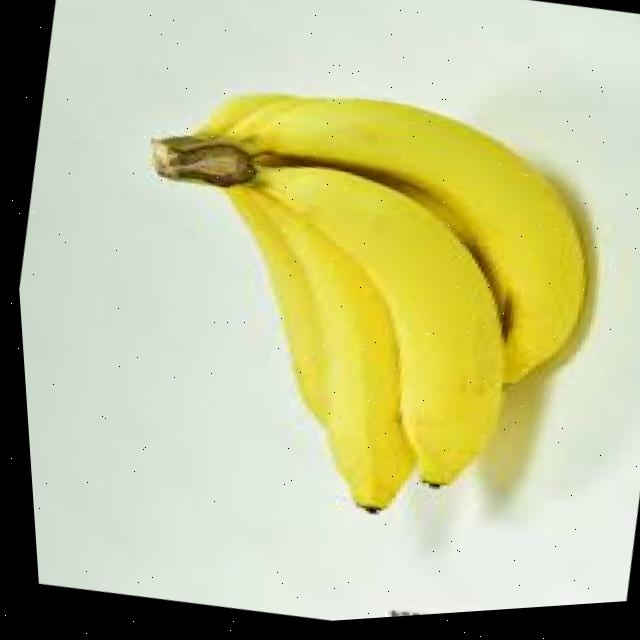Banana: (223, 100, 580, 389), (252, 170, 499, 487), (229, 191, 406, 511)
